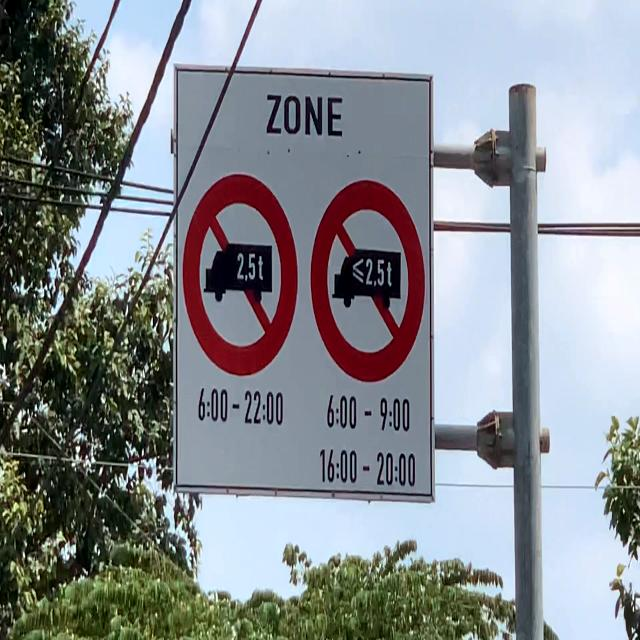P.106b: (182, 171, 299, 379), (309, 178, 426, 386)
